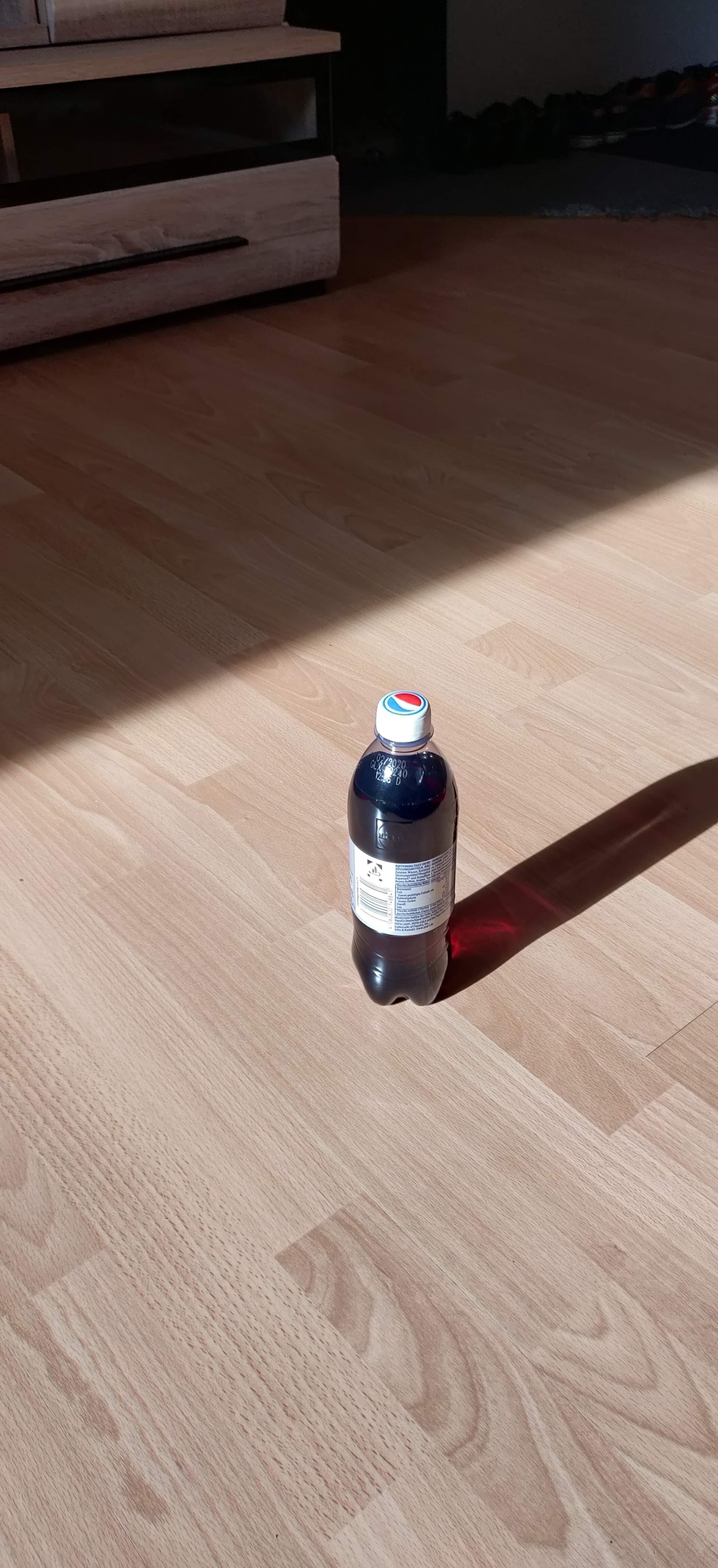bottle-plastic: (344, 688, 462, 1010)
